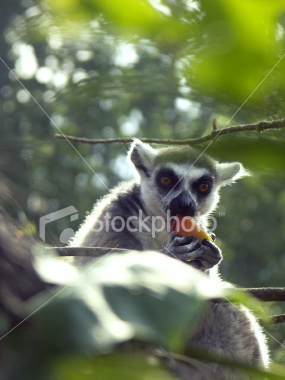cat: (65, 137, 247, 278)
